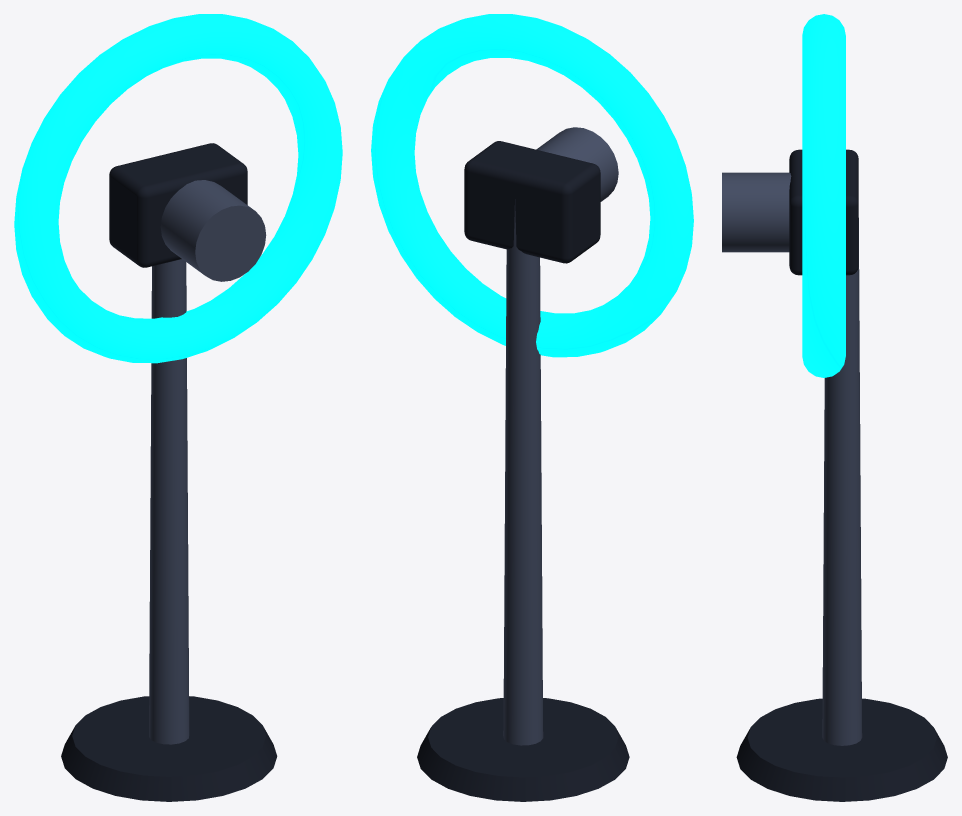
The model's file is atelier-gaming-keylight-cyber.glb.
3 renders of one model, left to right at view 1: azimuth 30°, elevation 25°; view 2: azimuth 150°, elevation 25°; view 3: azimuth 270°, elevation 25°, orthographic. The views are drawn at different scales.
Bounding box in the file's own units: 0.2 × 0.44 × 0.124.
